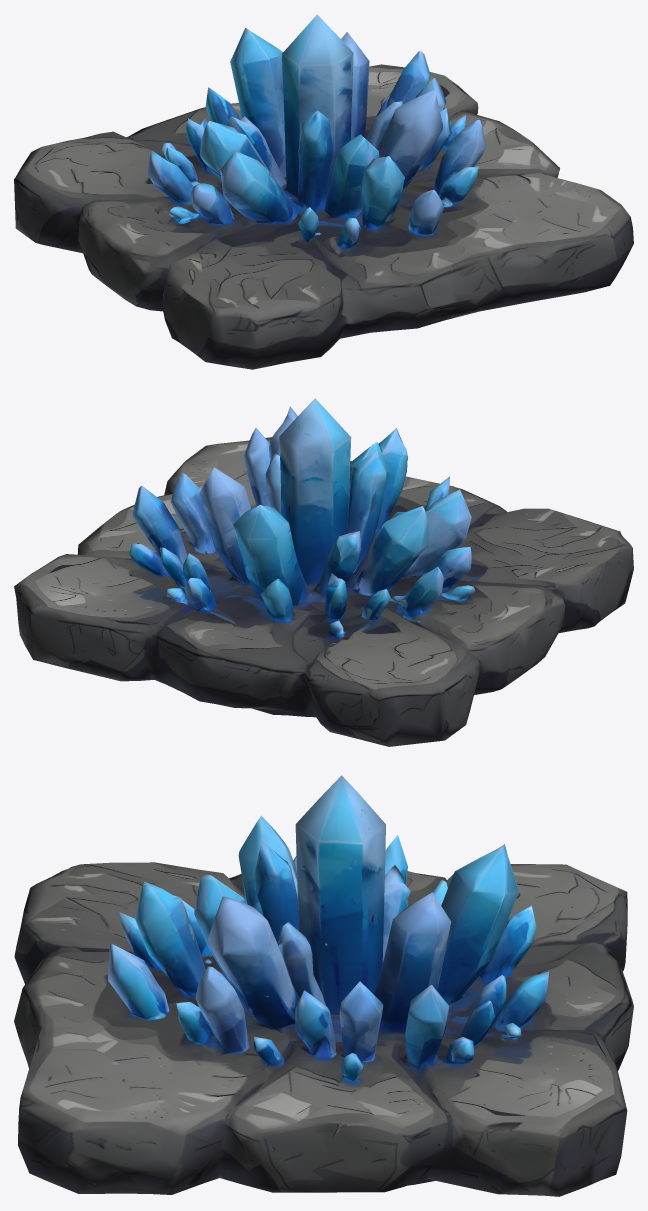
Rendered from Crystal button.fbx.
3 views of the same model, one above another, from view 1: azimuth 30°, elevation 25°; view 2: azimuth 150°, elevation 25°; view 3: azimuth 270°, elevation 25° (orthographic). The views are drawn at different scales.
Parts seen in each view (by area): view 1: tripo_node_056c466b; view 2: tripo_node_056c466b; view 3: tripo_node_056c466b.
Part boxes in pixels (left/top/right/bottom): tripo_node_056c466b: left=14, top=14, right=633, bottom=369; tripo_node_056c466b: left=14, top=398, right=633, bottom=746; tripo_node_056c466b: left=14, top=775, right=633, bottom=1196.
Size of the model in its own units: 1 by 0.6458 by 0.964.
